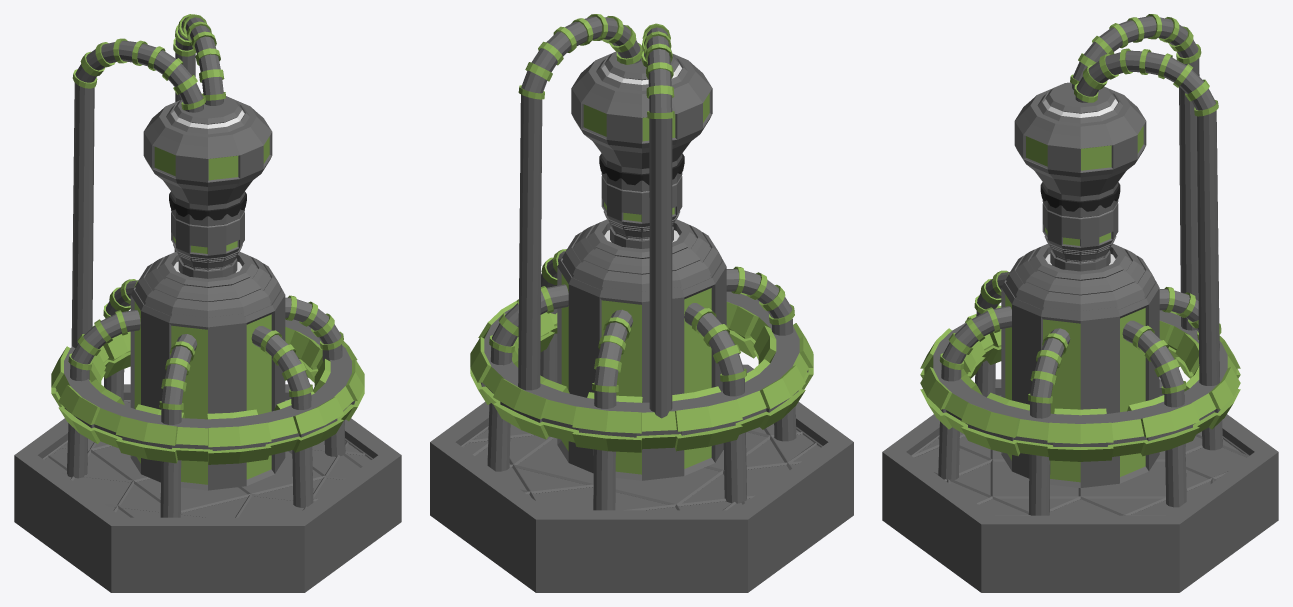
Rendered from Futuristic_Pump.fbx.
The picture shows the model from 3 angles, left to right: view 1: azimuth 30°, elevation 25°; view 2: azimuth 150°, elevation 25°; view 3: azimuth 270°, elevation 25°; orthographic projection. The views are drawn at different scales.
Parts seen in each view (by area): view 1: Futuristic_Pump; view 2: Futuristic_Pump; view 3: Futuristic_Pump.
Boxes of the visible parts, bbox=[...] form: Futuristic_Pump: bbox=[14, 14, 401, 592]; Futuristic_Pump: bbox=[430, 14, 853, 592]; Futuristic_Pump: bbox=[882, 14, 1278, 592].
Bounding box in the file's own units: 1231 × 1905 × 1421.
